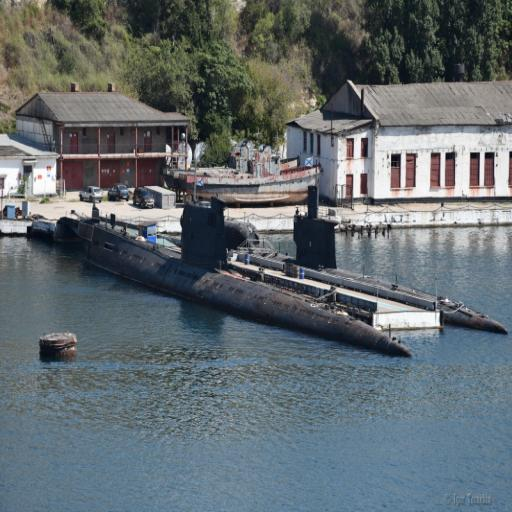submarine: (29, 162, 411, 357), (187, 186, 512, 339)
